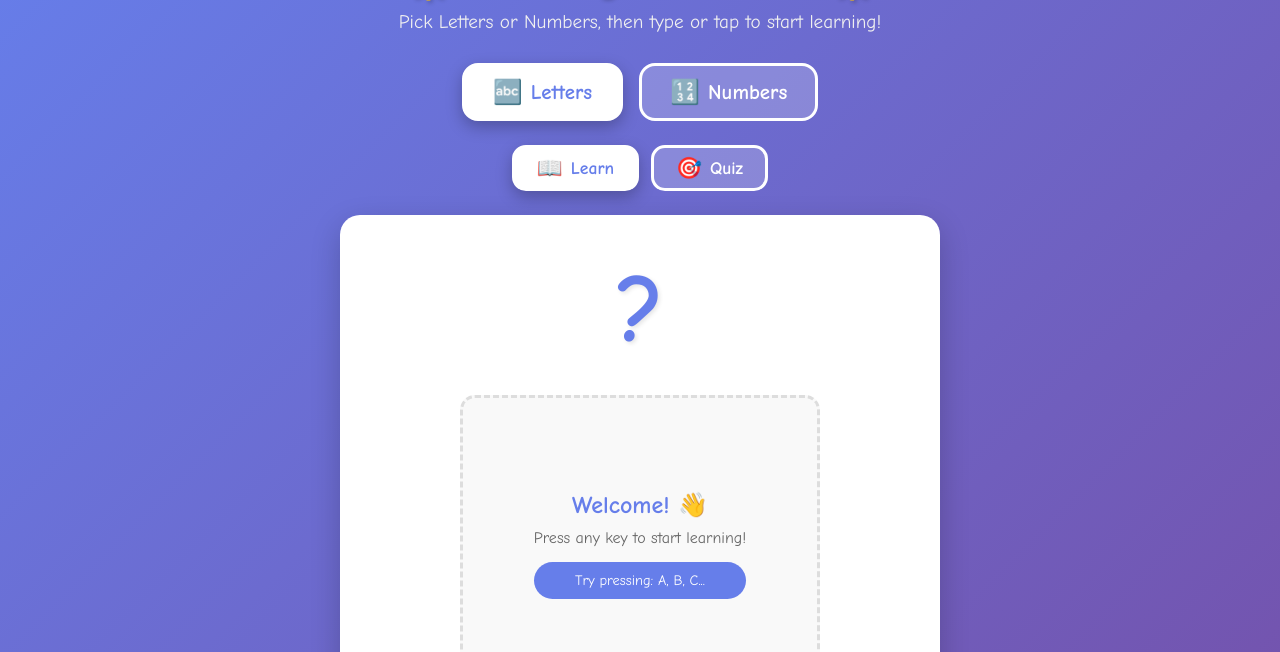
Numbers Learning Mode › Number selection › clicking a number shows its word and counting emoji fallback
The image size is (1280, 652).
Click the tab "🔢 Numbers" at (729, 92), box [639,63,818,121]
(page scrolled)
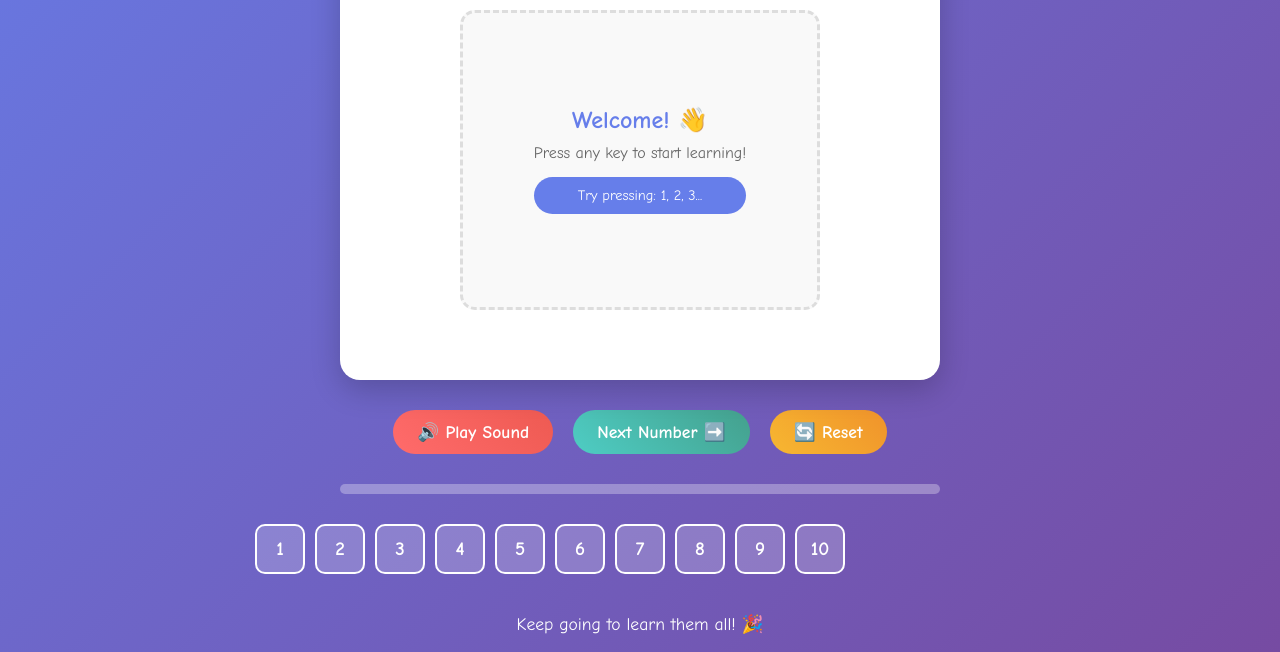
Click the button named "Number 3" at (400, 549), box [375,524,425,574]
Wait 5000 ms
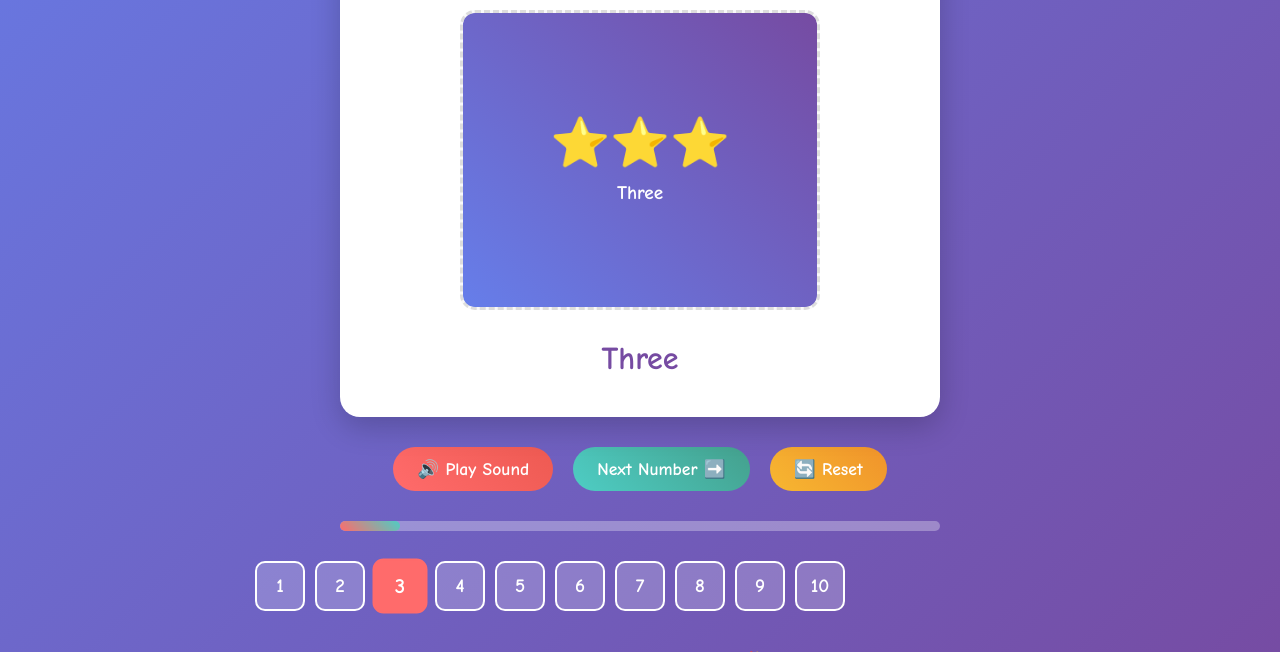
Expected: the text "⭐⭐⭐" is shown, [550,116,730,172]
Expected: the 1st text "Three" is shown, [617,182,663,204]
